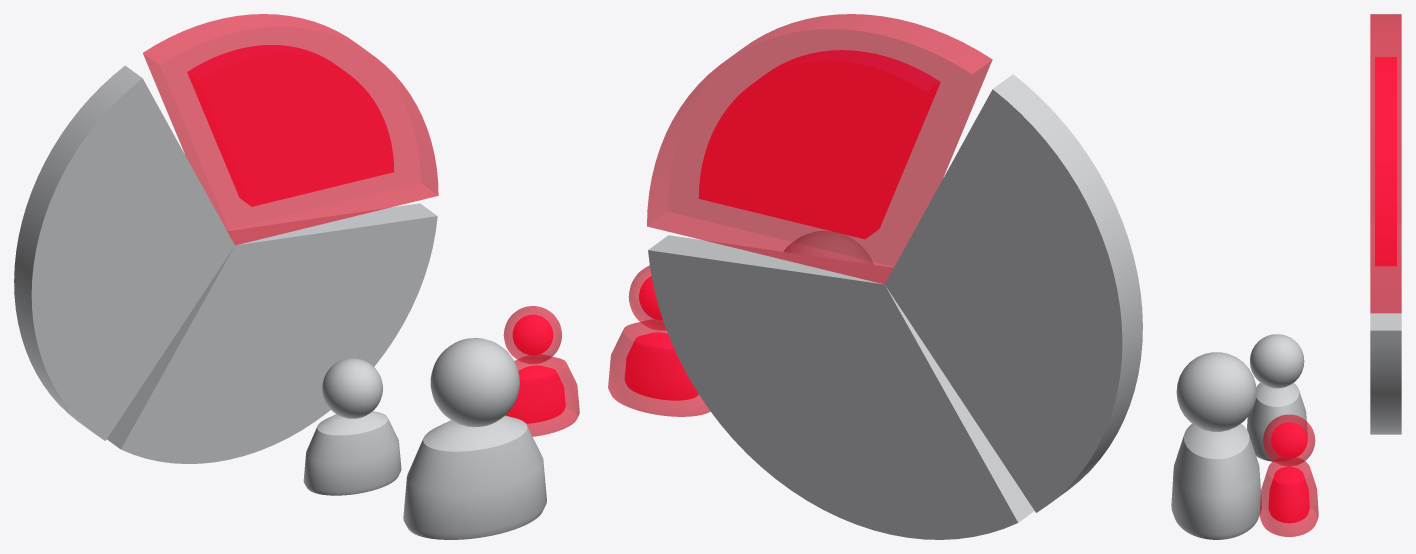
Rendered from 43-segmentation.glb.
3 renders of one model, left to right at view 1: azimuth 30°, elevation 25°; view 2: azimuth 150°, elevation 25°; view 3: azimuth 270°, elevation 25°, orthographic. The views are drawn at different scales.
Parts seen in each view (by area): view 1: BC satin iron, BC ruby optical glass, BC internal ruby light; view 2: BC satin iron, BC ruby optical glass, BC internal ruby light; view 3: BC satin iron, BC ruby optical glass, BC internal ruby light.
Part boxes in pixels (x1,y1,x2,y2): BC satin iron: [14, 65, 546, 539]; BC ruby optical glass: [143, 14, 579, 436]; BC internal ruby light: [187, 45, 565, 423]; BC satin iron: [648, 74, 1142, 539]; BC ruby optical glass: [608, 14, 992, 416]; BC internal ruby light: [624, 50, 940, 400]; BC satin iron: [1171, 14, 1401, 539]; BC ruby optical glass: [1259, 14, 1401, 536]; BC internal ruby light: [1268, 57, 1396, 523].
Bounding box in the file's own units: 2.14 × 1.87 × 0.9522.
